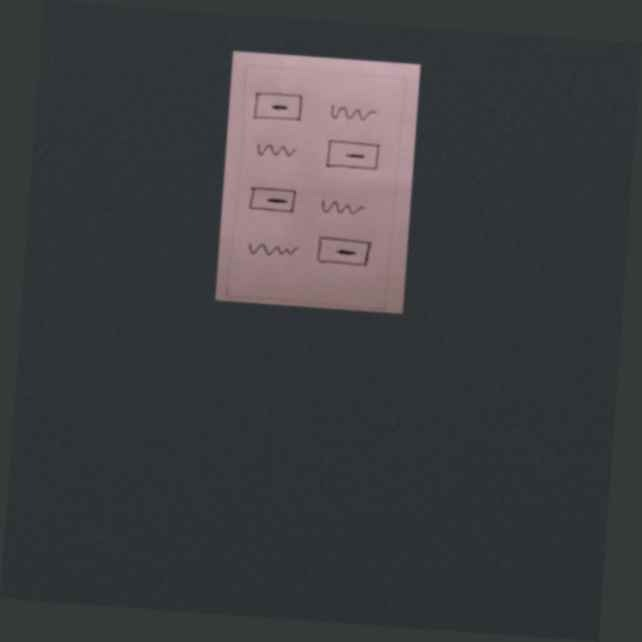button: (313, 233, 375, 271), (323, 136, 383, 173), (252, 89, 306, 125), (246, 184, 300, 217)
text: (324, 99, 379, 129), (316, 193, 367, 225), (245, 235, 303, 263), (254, 139, 299, 163)
